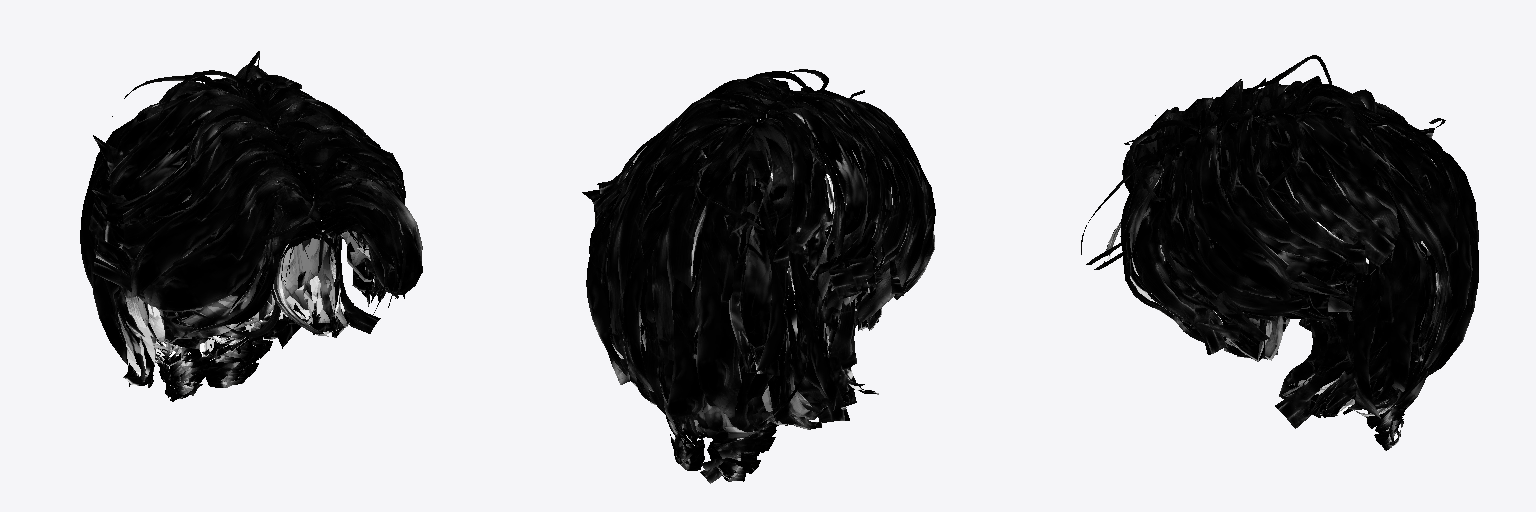
3 renders of one model, left to right at view 1: azimuth 30°, elevation 25°; view 2: azimuth 150°, elevation 25°; view 3: azimuth 270°, elevation 25°, orthographic.
Bounding box in the file's own units: 0.2842 × 0.3332 × 0.3277.
Materials: 1 (1 with a texture image).